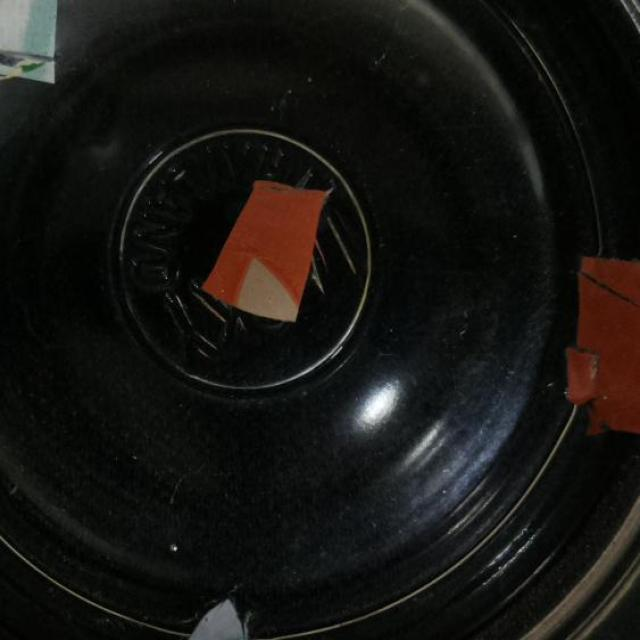fiber: (192, 179, 331, 324), (573, 247, 639, 435), (0, 0, 65, 87), (158, 597, 285, 639)
